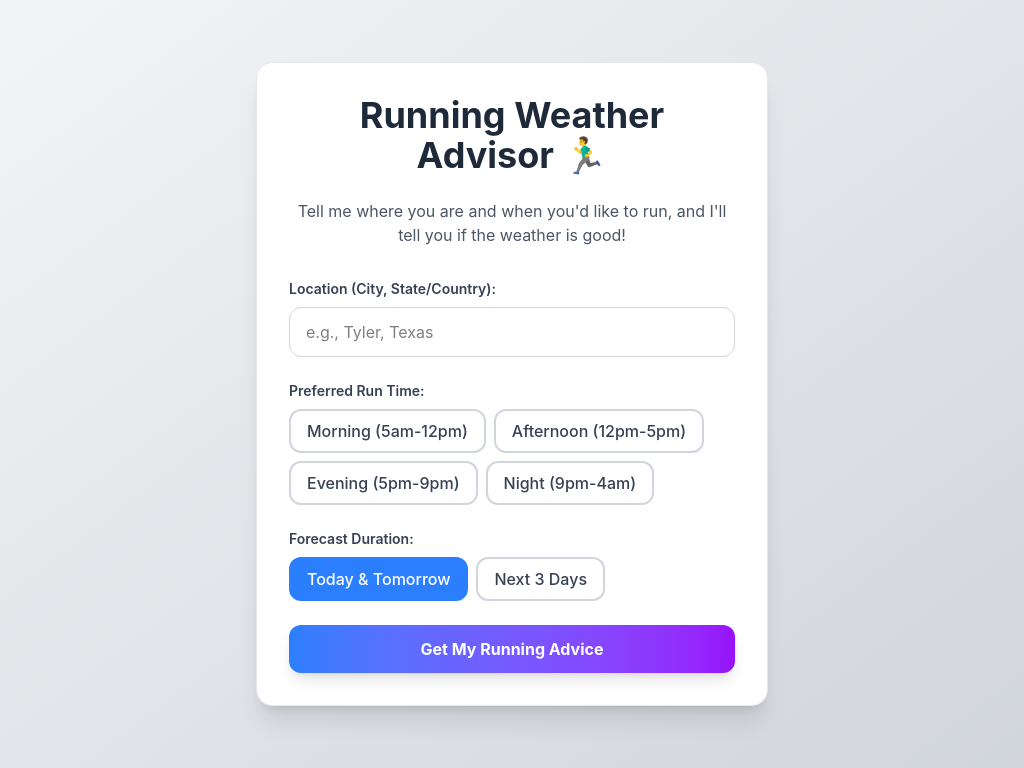
App Integration › shows a modal if form is submitted with missing input
Click the button "Get My Running Advice".
click(512, 649)  # box [289, 625, 735, 673]
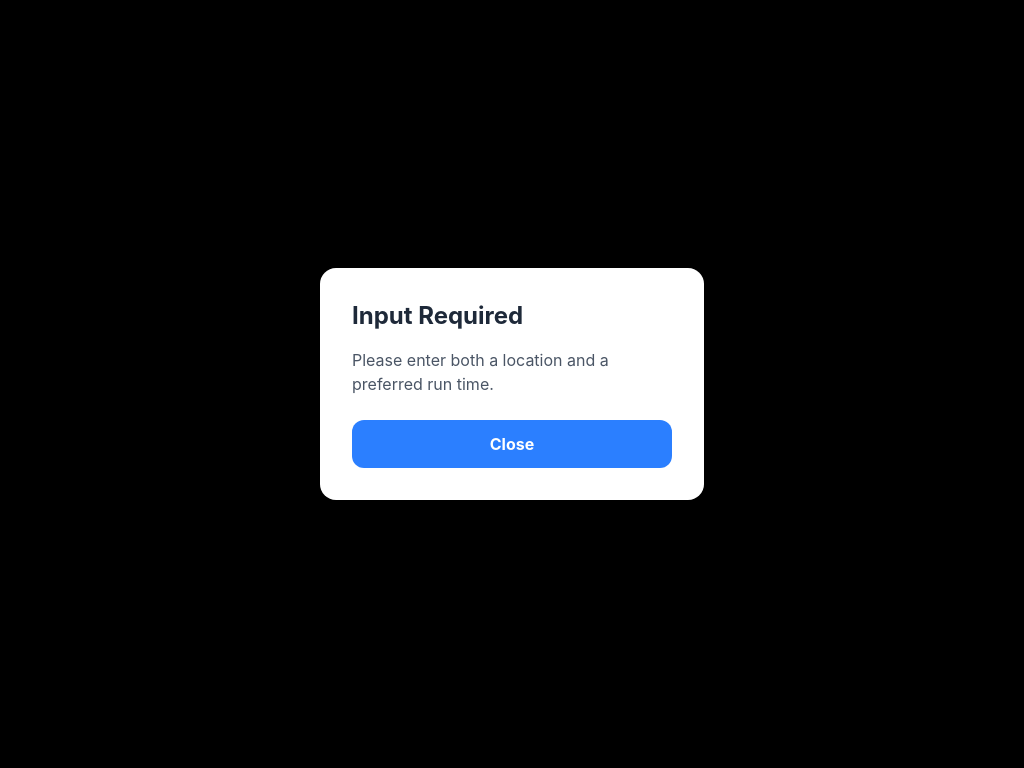
Check: the heading "Input Required" is shown, box [352, 301, 523, 330]
Check: the text "Please enter both a location and a preferred run time." is shown, box [352, 350, 609, 394]
Click the button "Close".
click(512, 444)  # box [352, 420, 672, 468]
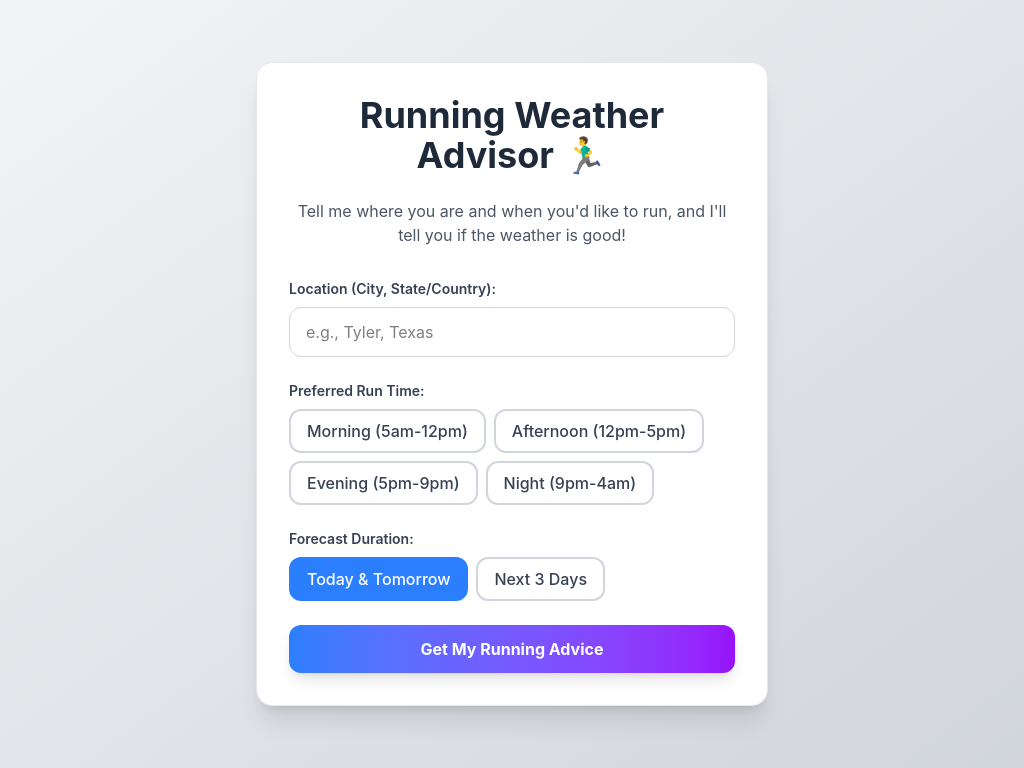
Check: the heading "Input Required" is gone
